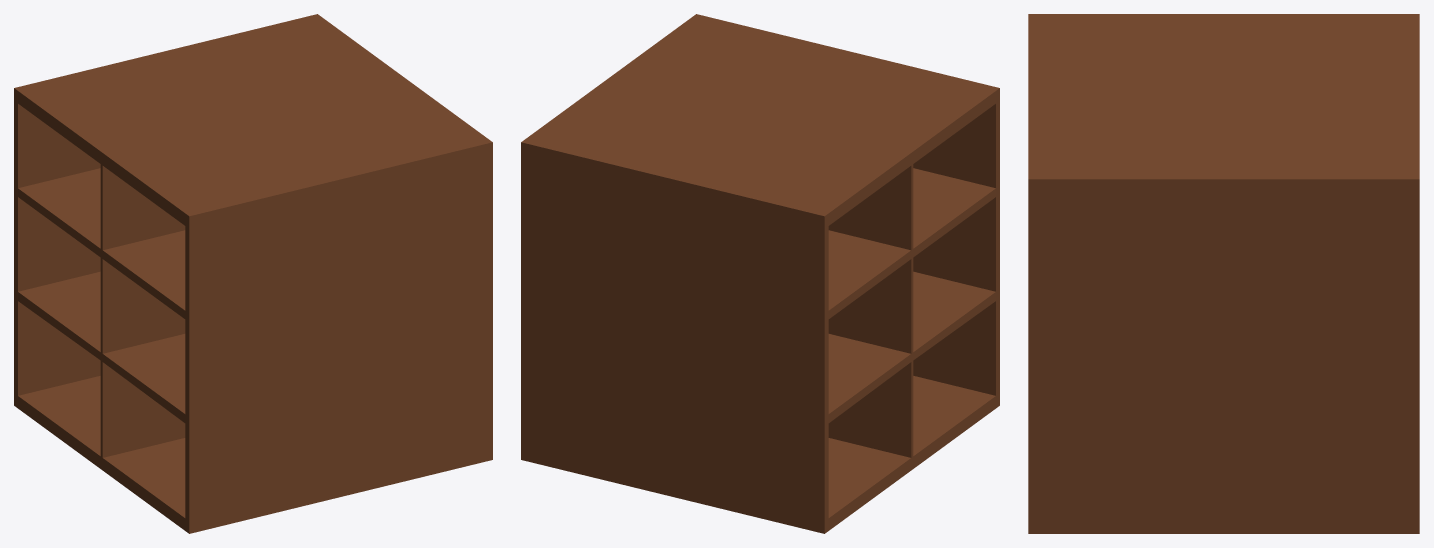
File: regal22.fbx
3 renders of one model, left to right at view 1: azimuth 30°, elevation 25°; view 2: azimuth 150°, elevation 25°; view 3: azimuth 270°, elevation 25°, orthographic. The views are drawn at different scales.
Parts seen in each view (by area): view 1: Cube.002; view 2: Cube.002; view 3: Cube.002.
Boxes of the visible parts, x1,y1,x2,y2 form: Cube.002: [14, 14, 492, 533]; Cube.002: [521, 14, 999, 533]; Cube.002: [1028, 14, 1419, 533].
Bounding box in the file's own units: 50 × 50 × 50.
